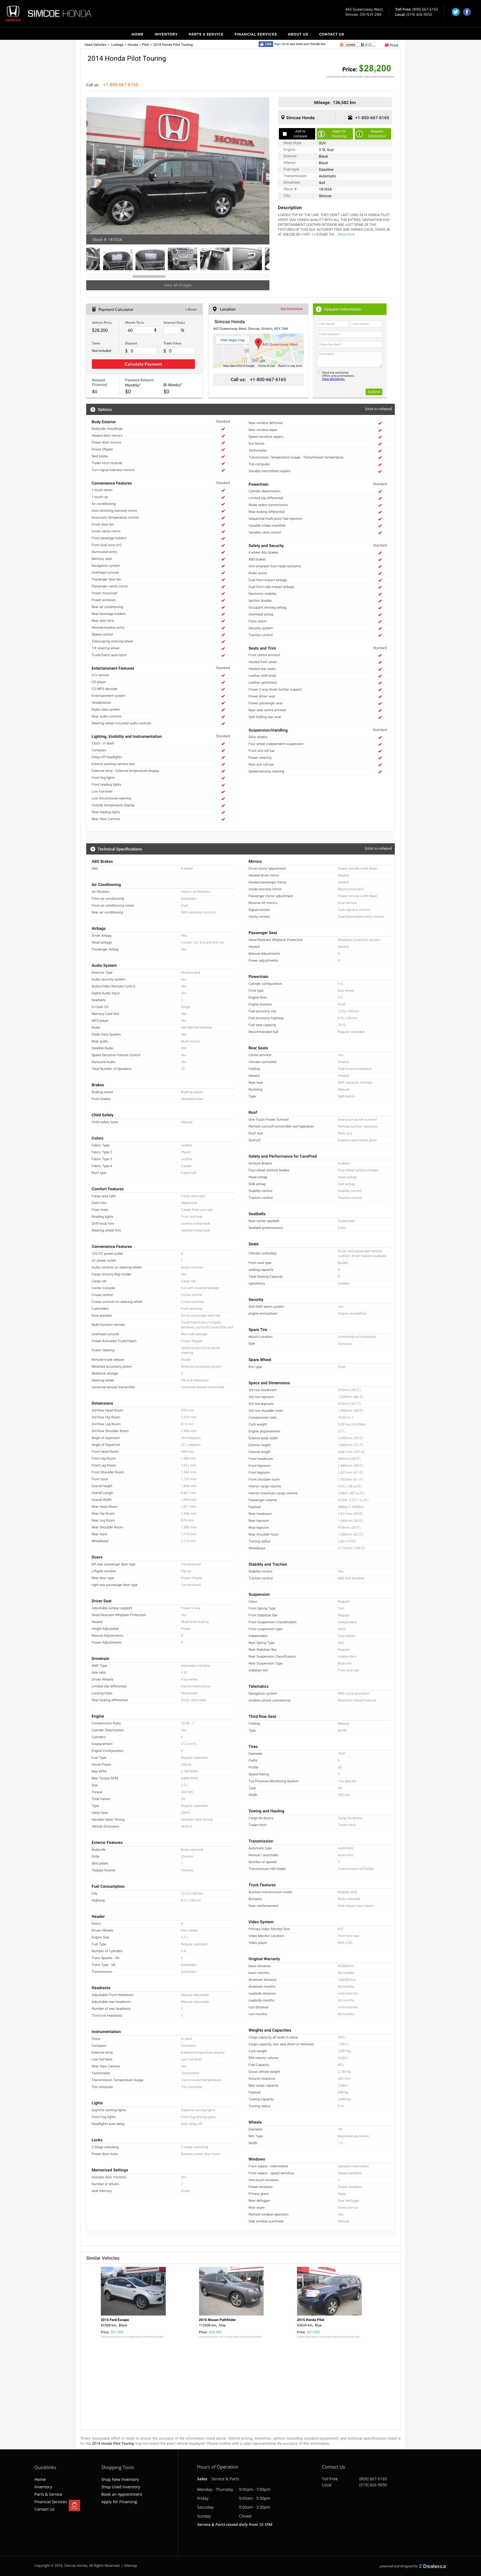car: (261, 163, 268, 169)
